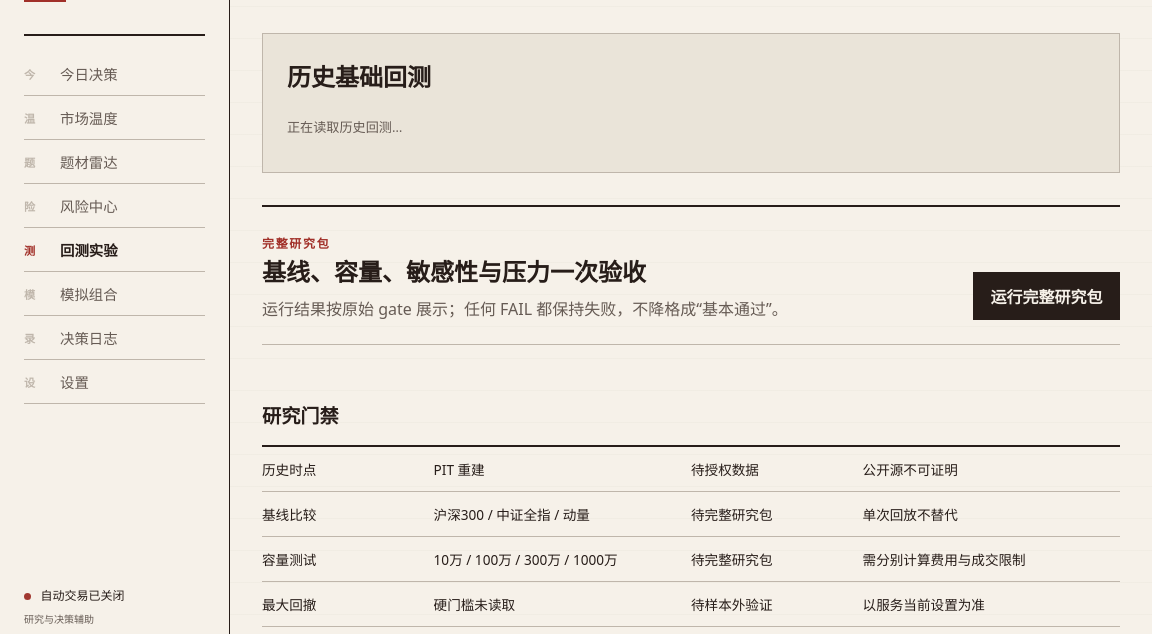
Test: 衡策前端 › 完整研究包保留 FAIL 并展示各研究维度
(page scrolled)
Click the button "运行完整研究包" at (1046, 296), box [973,272,1120,320]
(page scrolled)
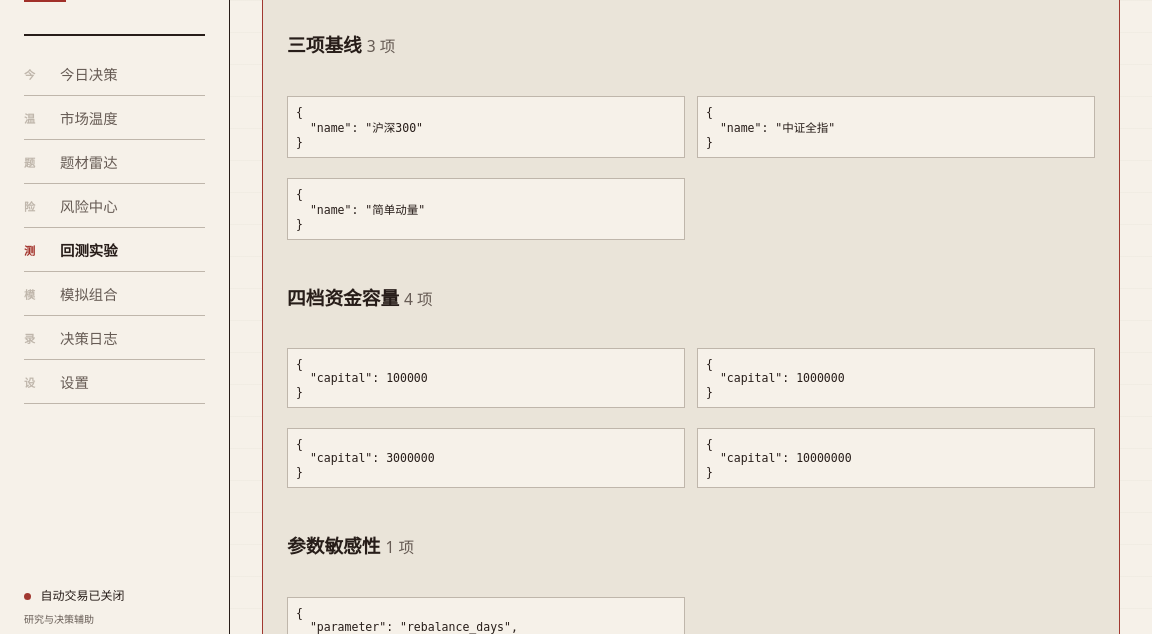
expect the heading "三项基线 3 项" is shown: met, box [287,32,395,57]
expect the heading "四档资金容量 4 项" is shown: met, box [287,285,433,310]
